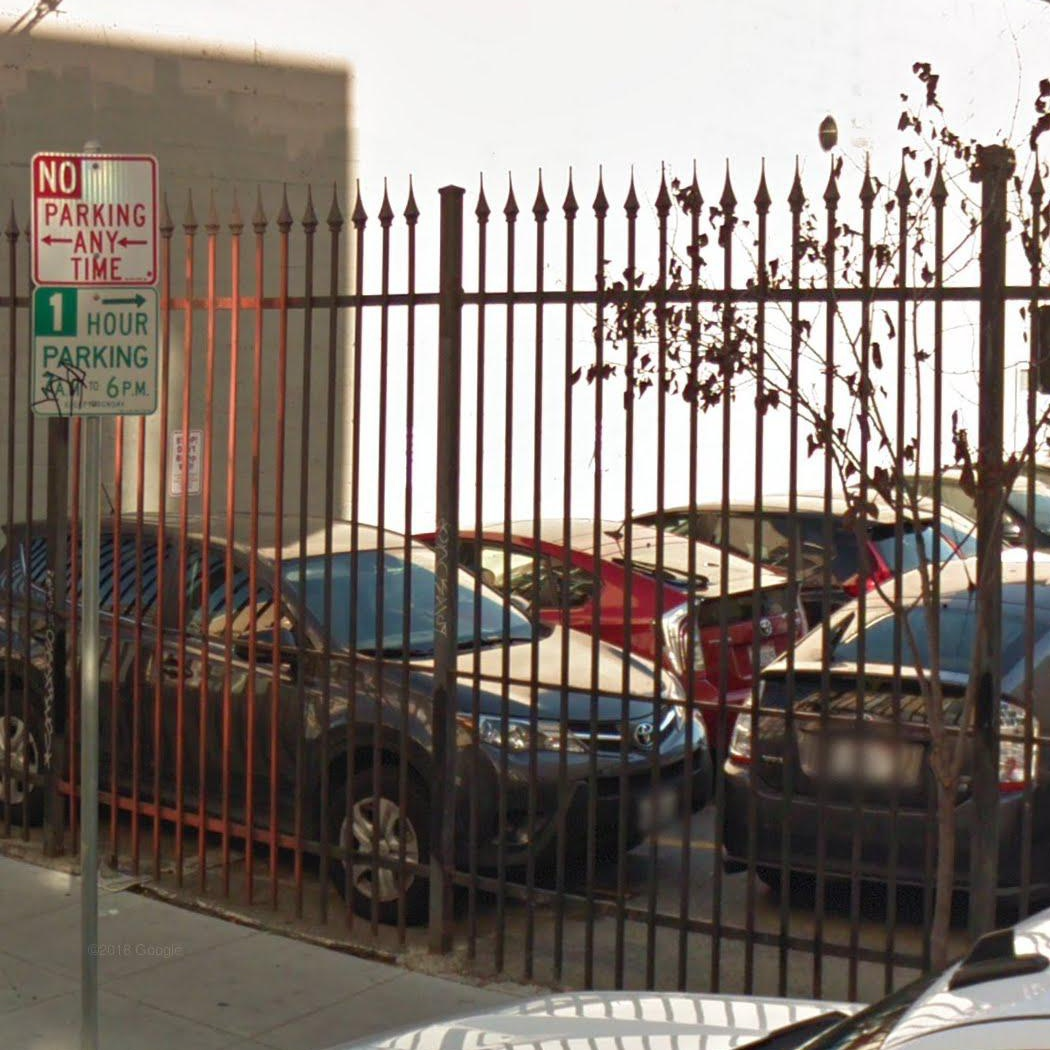1 Hour Parking: (28, 285, 159, 418)
No Parking Anytime: (30, 150, 159, 287)
